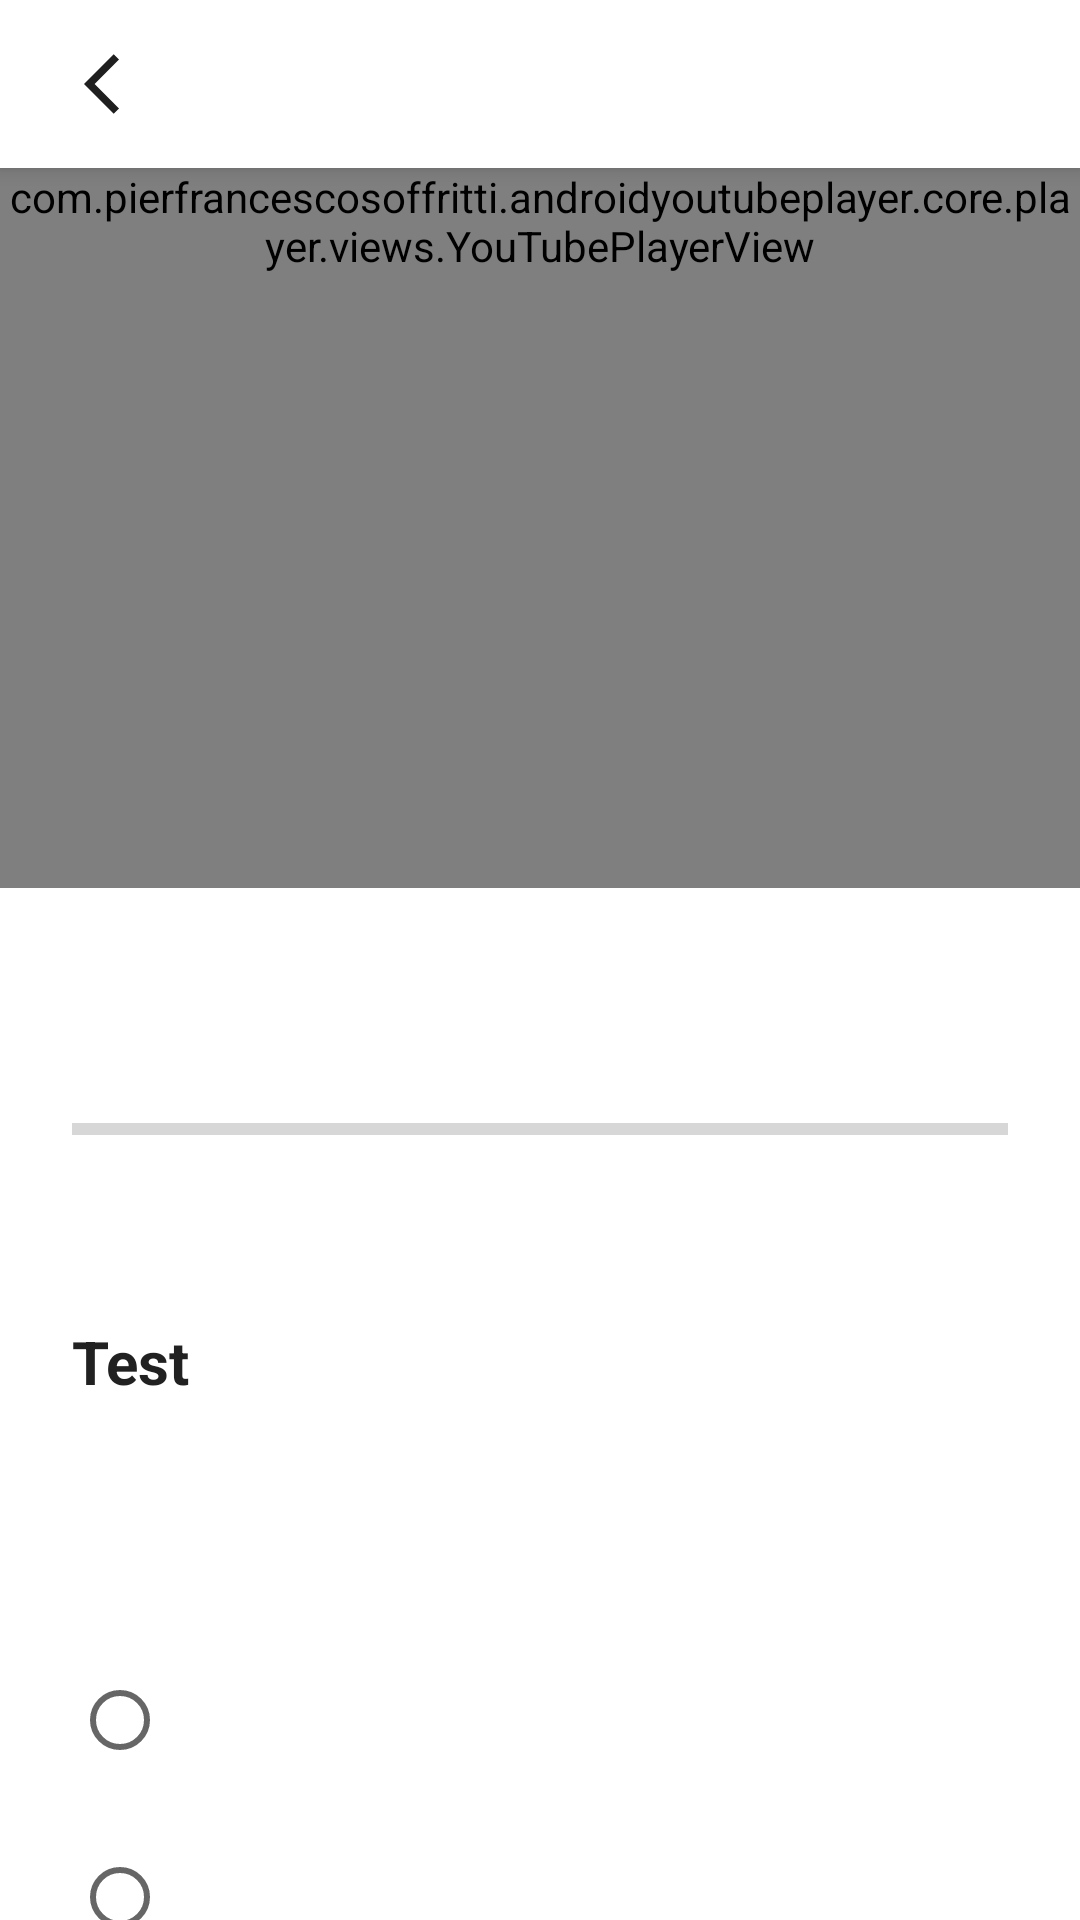

Icon bounding boxes for this 1080 x 1920 phone screenshot, format bbox=[x1, y1, x2, y2]:
back: bbox=[84, 54, 119, 114]
